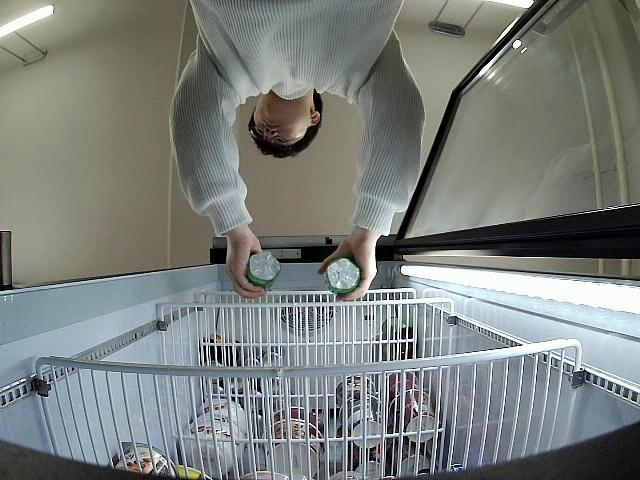18_trevi: (325, 256, 363, 295), (247, 249, 280, 286)
